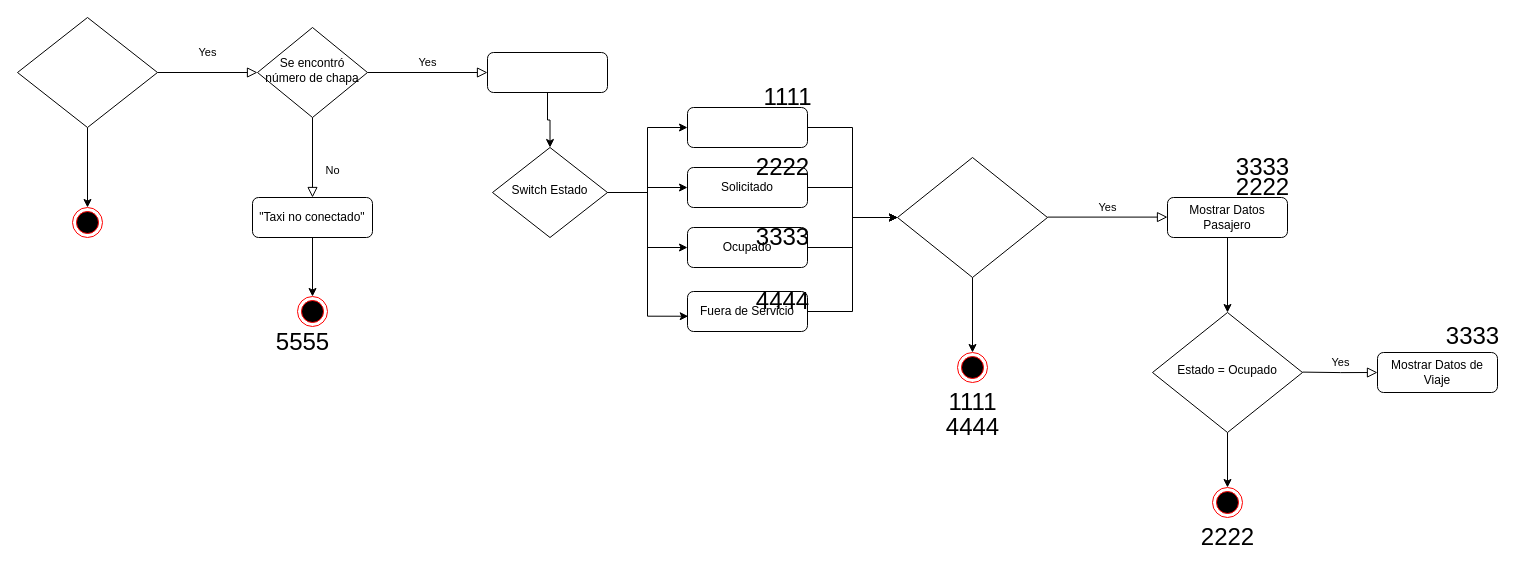
Some shapes in this 1525 by 569 pixel diagram are drawn without their labels. Each missing label, with the centre of its shape:
BusquedaNumeroChapa: the point at 87,72
Estado = Solicitado or Estado = Ocupado: the point at 972,217
Libre: the point at 747,127
Mostrar Datos Chapa: the point at 547,72
